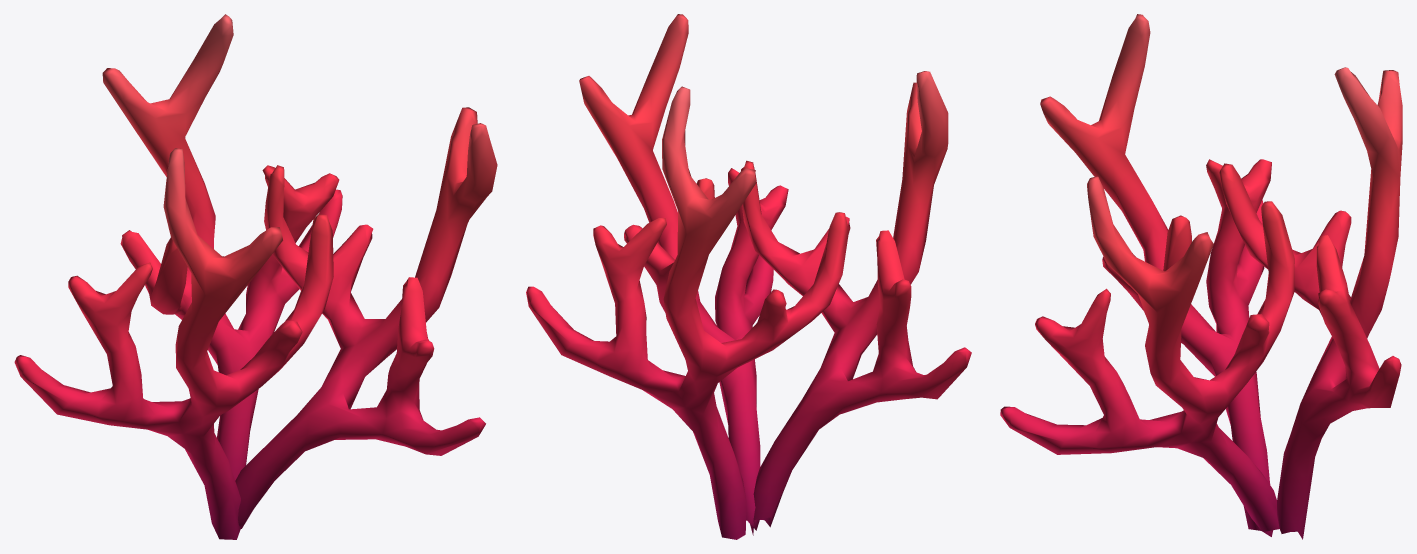
The model's file is Capsule_contents_003.fbx.
3 views of the same model, side by side, from view 1: azimuth 30°, elevation 25°; view 2: azimuth 150°, elevation 25°; view 3: azimuth 270°, elevation 25° (orthographic). The views are drawn at different scales.
Parts seen in each view (by area): view 1: Сapsule_contents_003; view 2: Сapsule_contents_003; view 3: Сapsule_contents_003.
Part boxes in pixels (bbox=[...]): Сapsule_contents_003: bbox=[14, 14, 497, 539]; Сapsule_contents_003: bbox=[526, 14, 971, 539]; Сapsule_contents_003: bbox=[1000, 14, 1402, 539].
Bounding box in the file's own units: 109 × 87.11 × 117.
